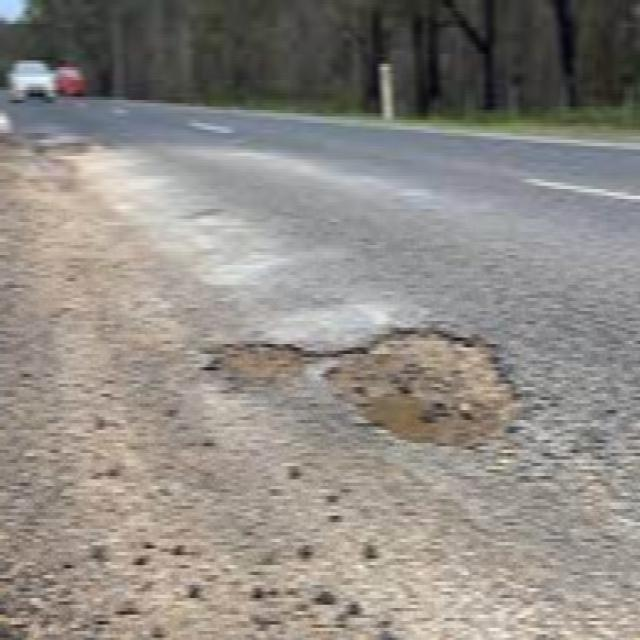Pothole: (335, 310, 545, 464), (201, 325, 325, 398)
